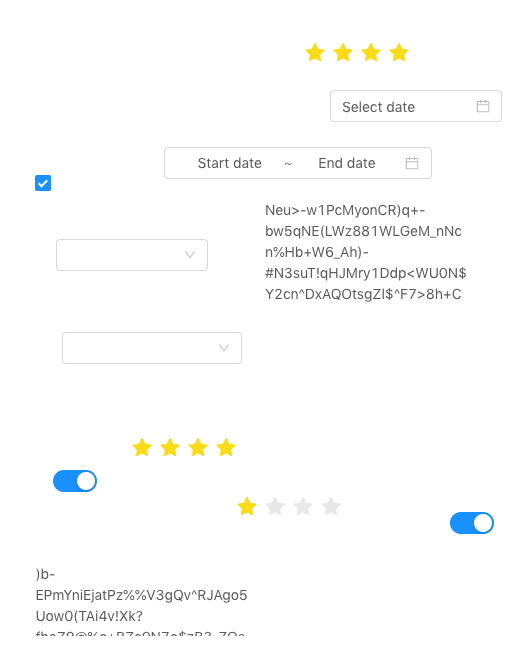Checkbox: (35, 172, 51, 193)
DatePicker: (330, 90, 502, 122)
RangePicker: (164, 147, 432, 179)
Rate: (237, 490, 357, 522), (132, 431, 252, 463), (305, 36, 425, 68)
Select: (62, 332, 242, 364), (56, 239, 208, 271)
Switch: (53, 469, 97, 493), (450, 511, 494, 535)
Text: (265, 199, 469, 355), (36, 563, 251, 636)
